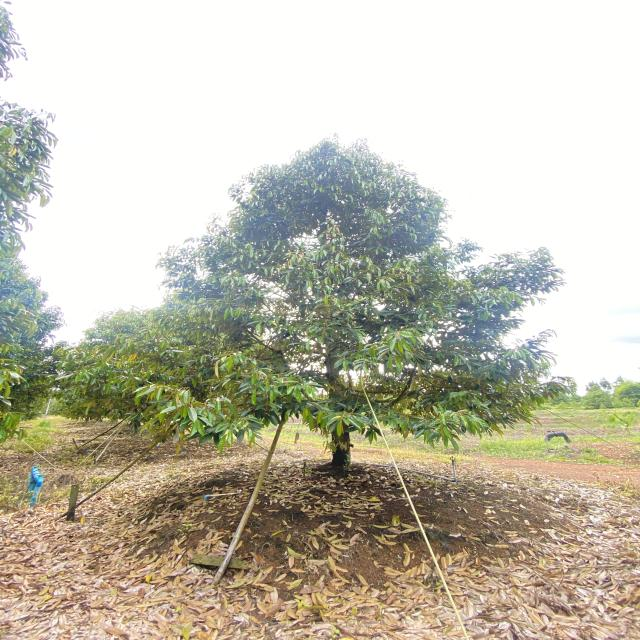Tree: (58, 104, 576, 502)
